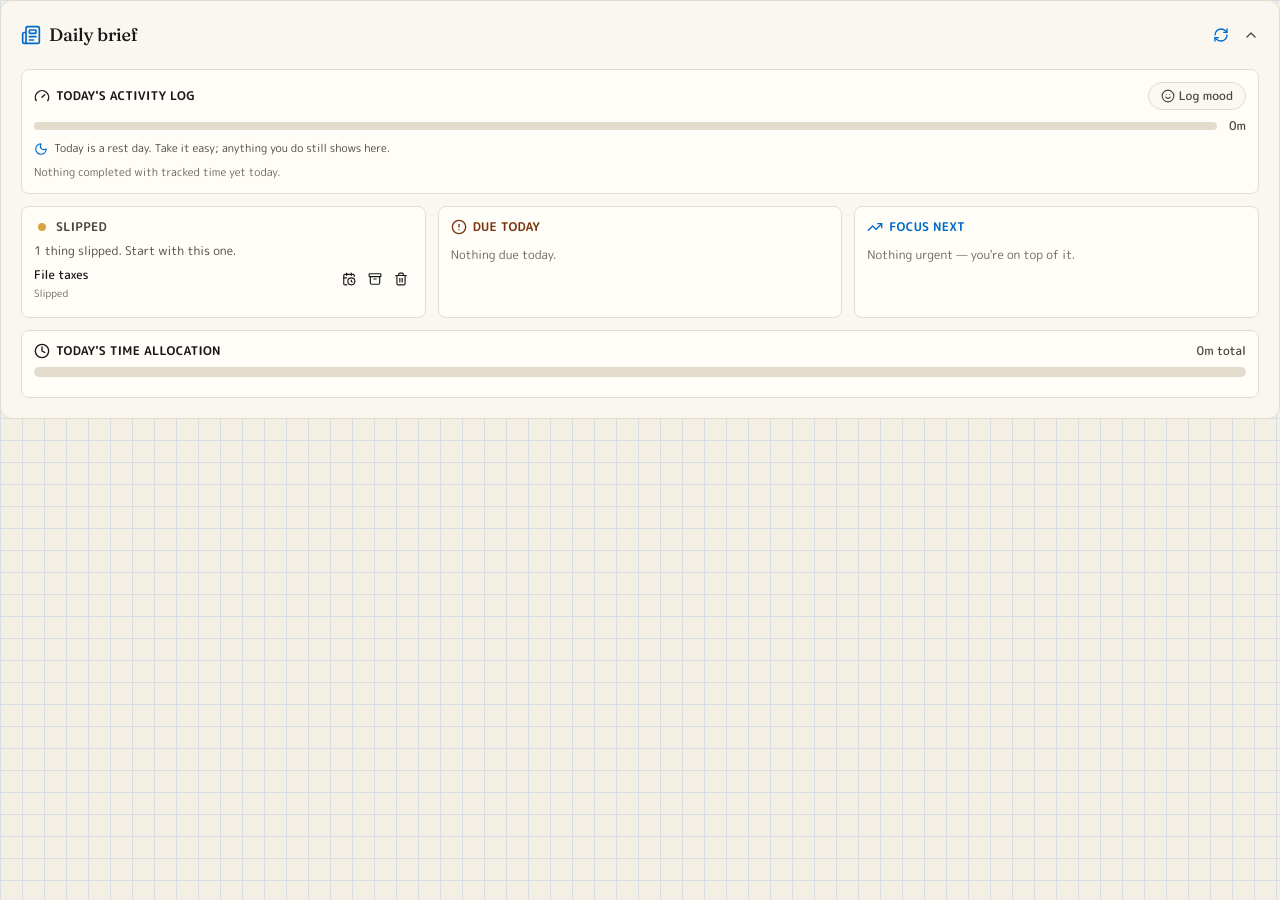
TaskDebriefPanel Slipped actions › archives a slipped task and drops it from the list at once
Click the button named "Archive “File taxes”".
click(375, 279)  # box [363,267,387,291]
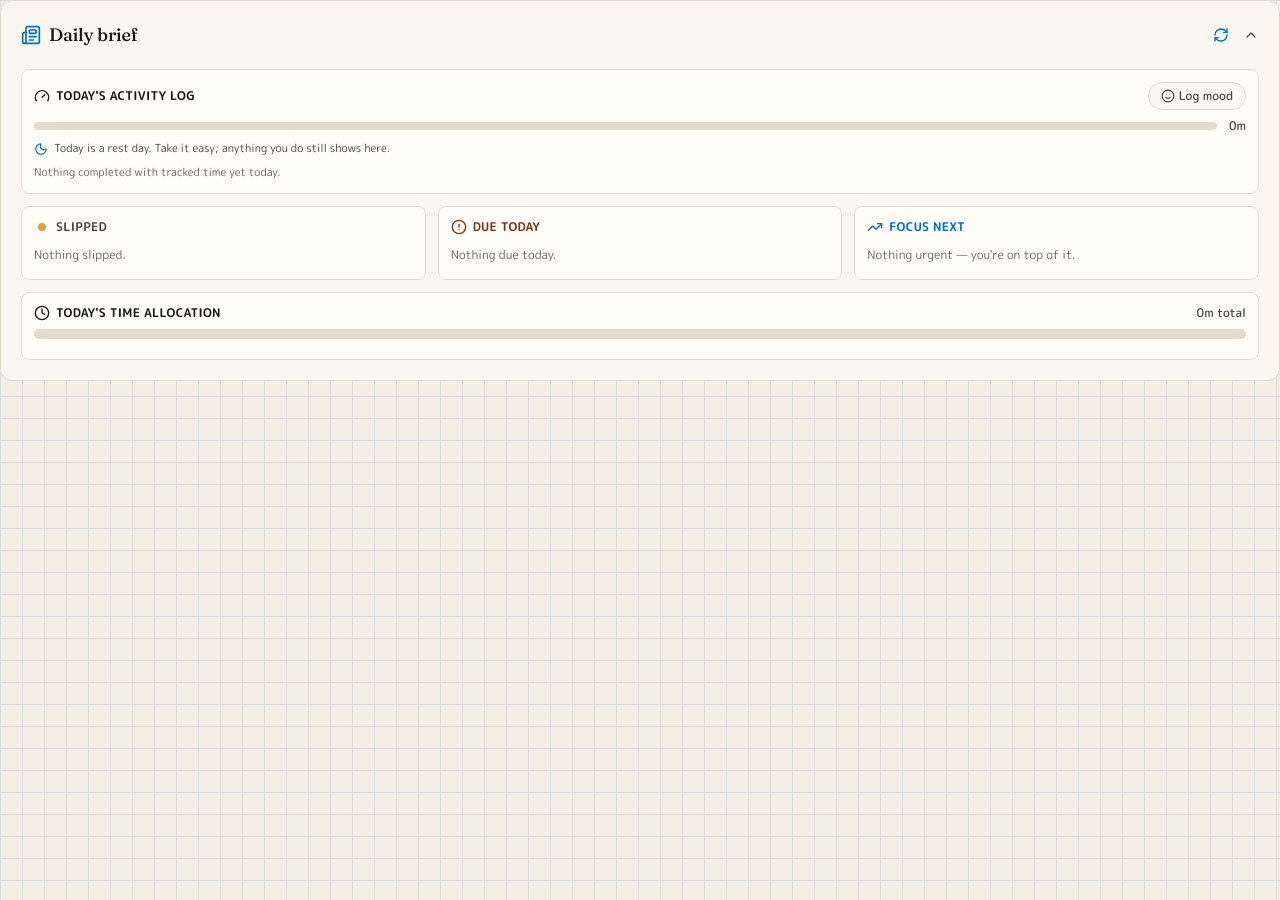
Result: the text "Nothing slipped." is shown at [34,246,126,263]
